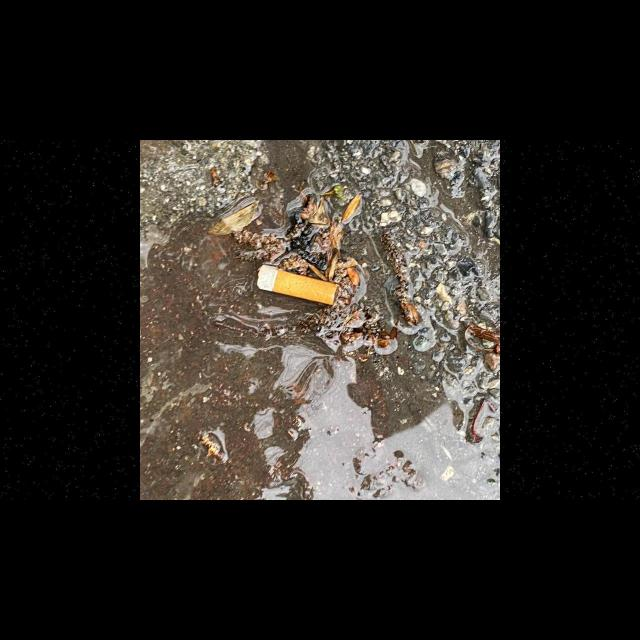cigarette: (256, 264, 340, 306)
